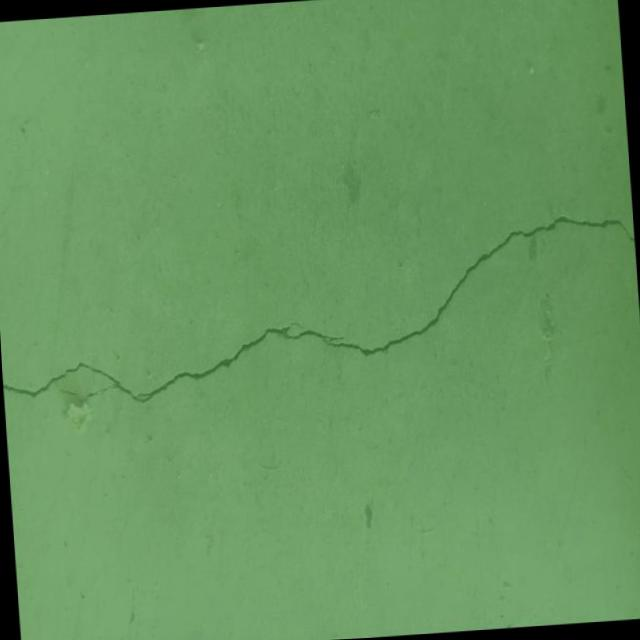crack: (0, 209, 640, 412)
